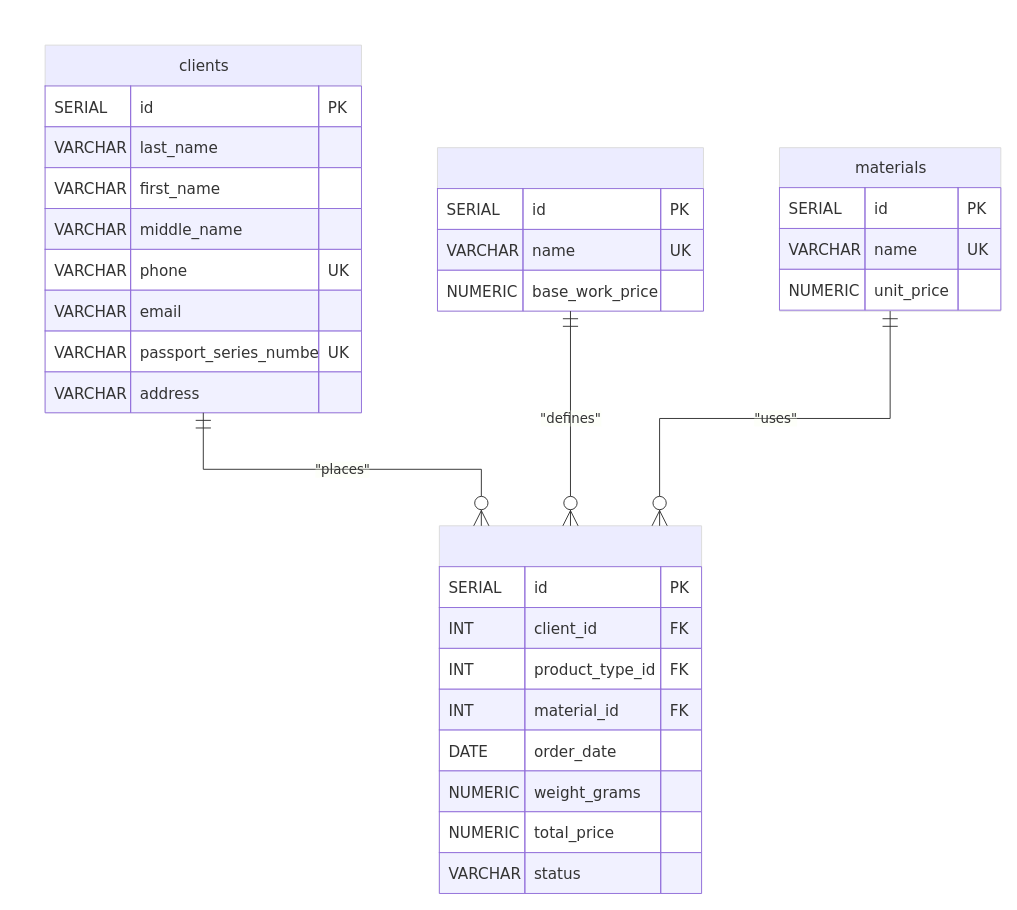
Image size: 1017x910. Some labels were removed from this diagram. Each missing label, with the box of its shape:
orders: (438, 525, 702, 893)
product_types: (437, 147, 703, 311)
